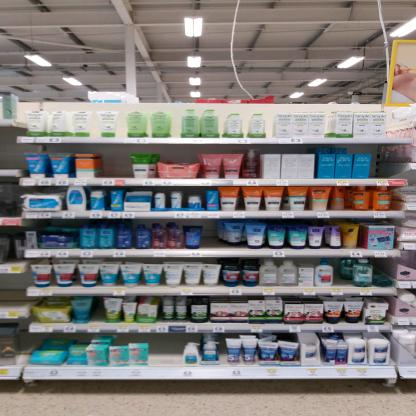Void: (152, 335, 184, 366), (100, 146, 130, 177), (2, 275, 26, 307), (373, 149, 397, 180), (0, 143, 19, 170), (204, 224, 216, 248)
